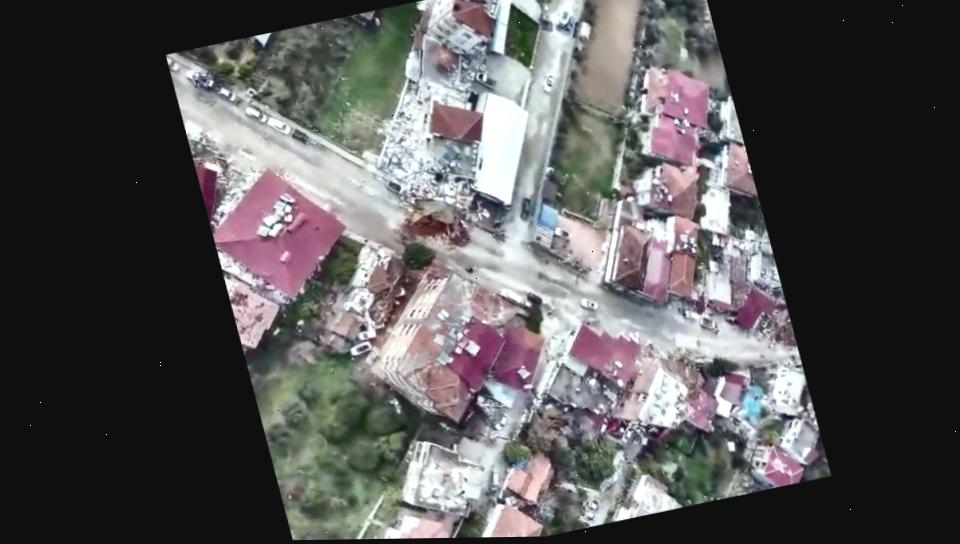kapali: (351, 174, 489, 283), (717, 314, 802, 369)
